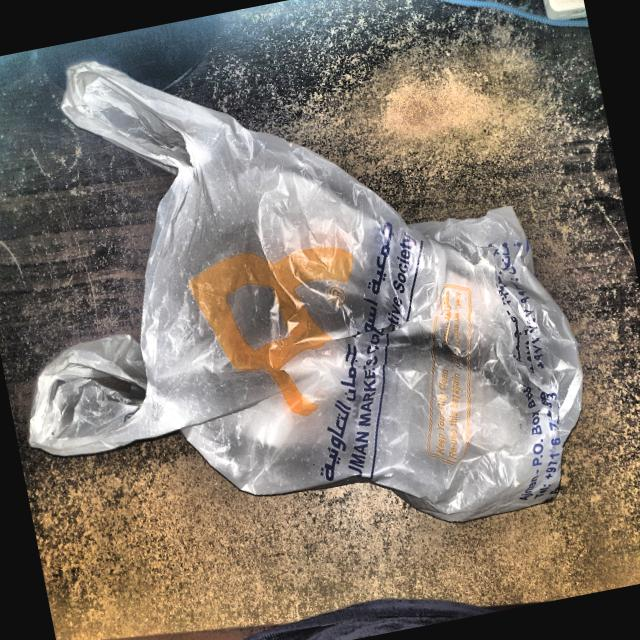plastic bag: (0, 0, 612, 615)
